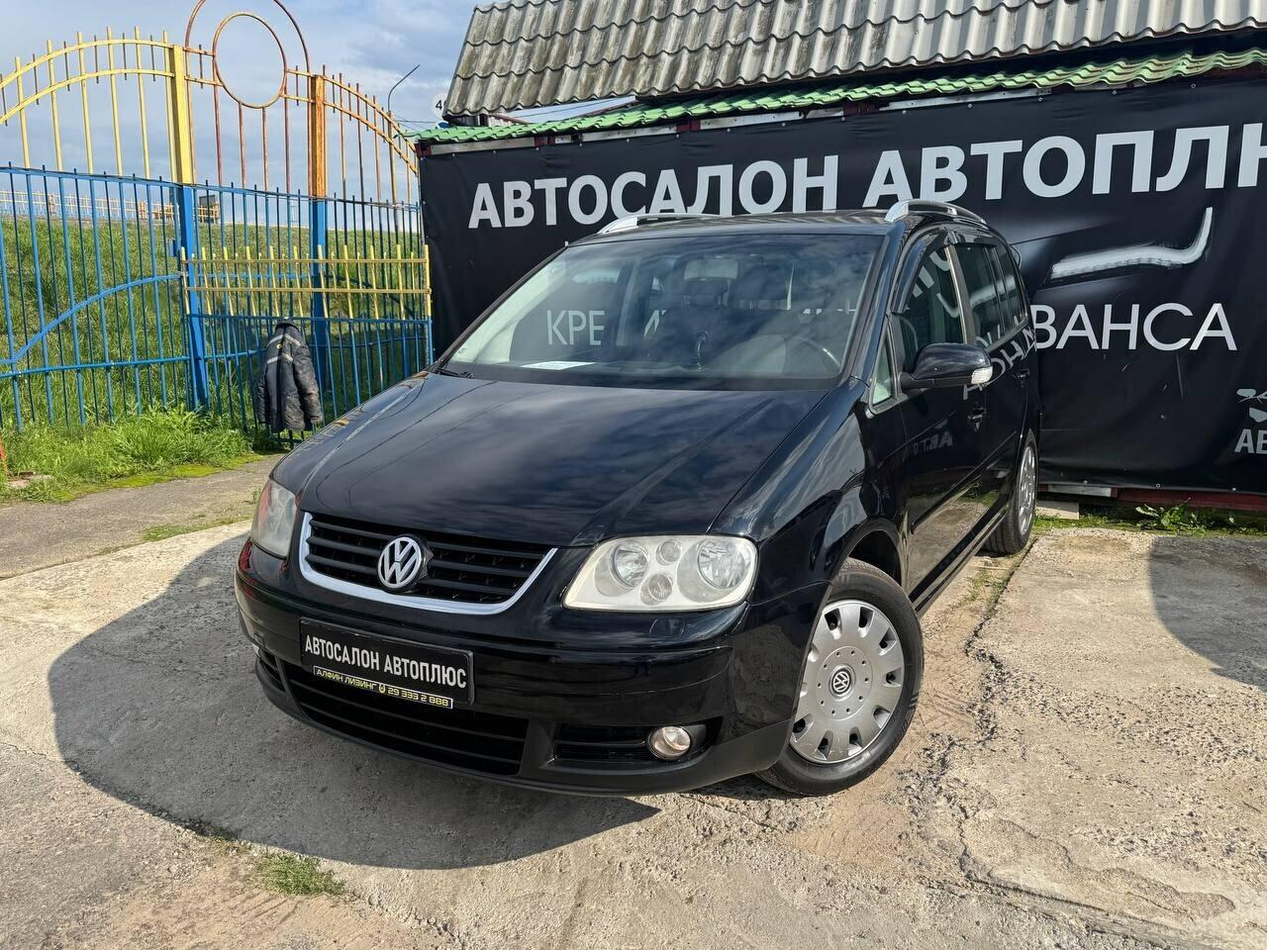Touran_2003-2006: (230, 205, 1048, 795)
